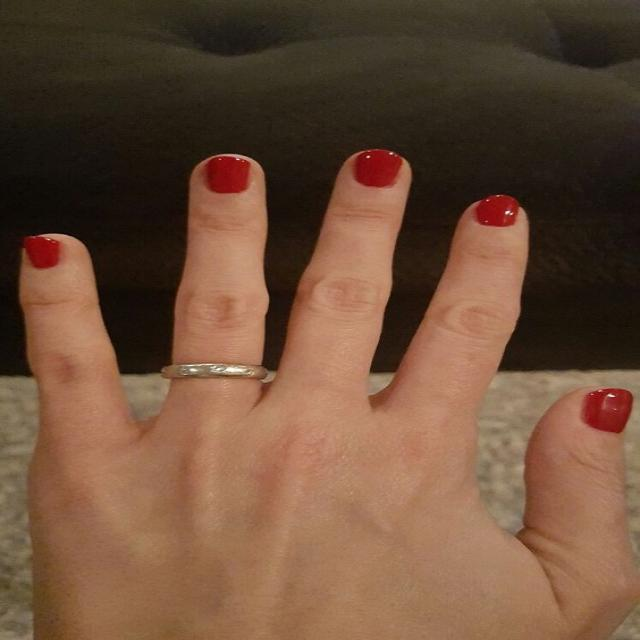Fingernail: (582, 388, 633, 434), (354, 150, 401, 187), (205, 157, 248, 194), (476, 195, 519, 227), (25, 237, 60, 269)
